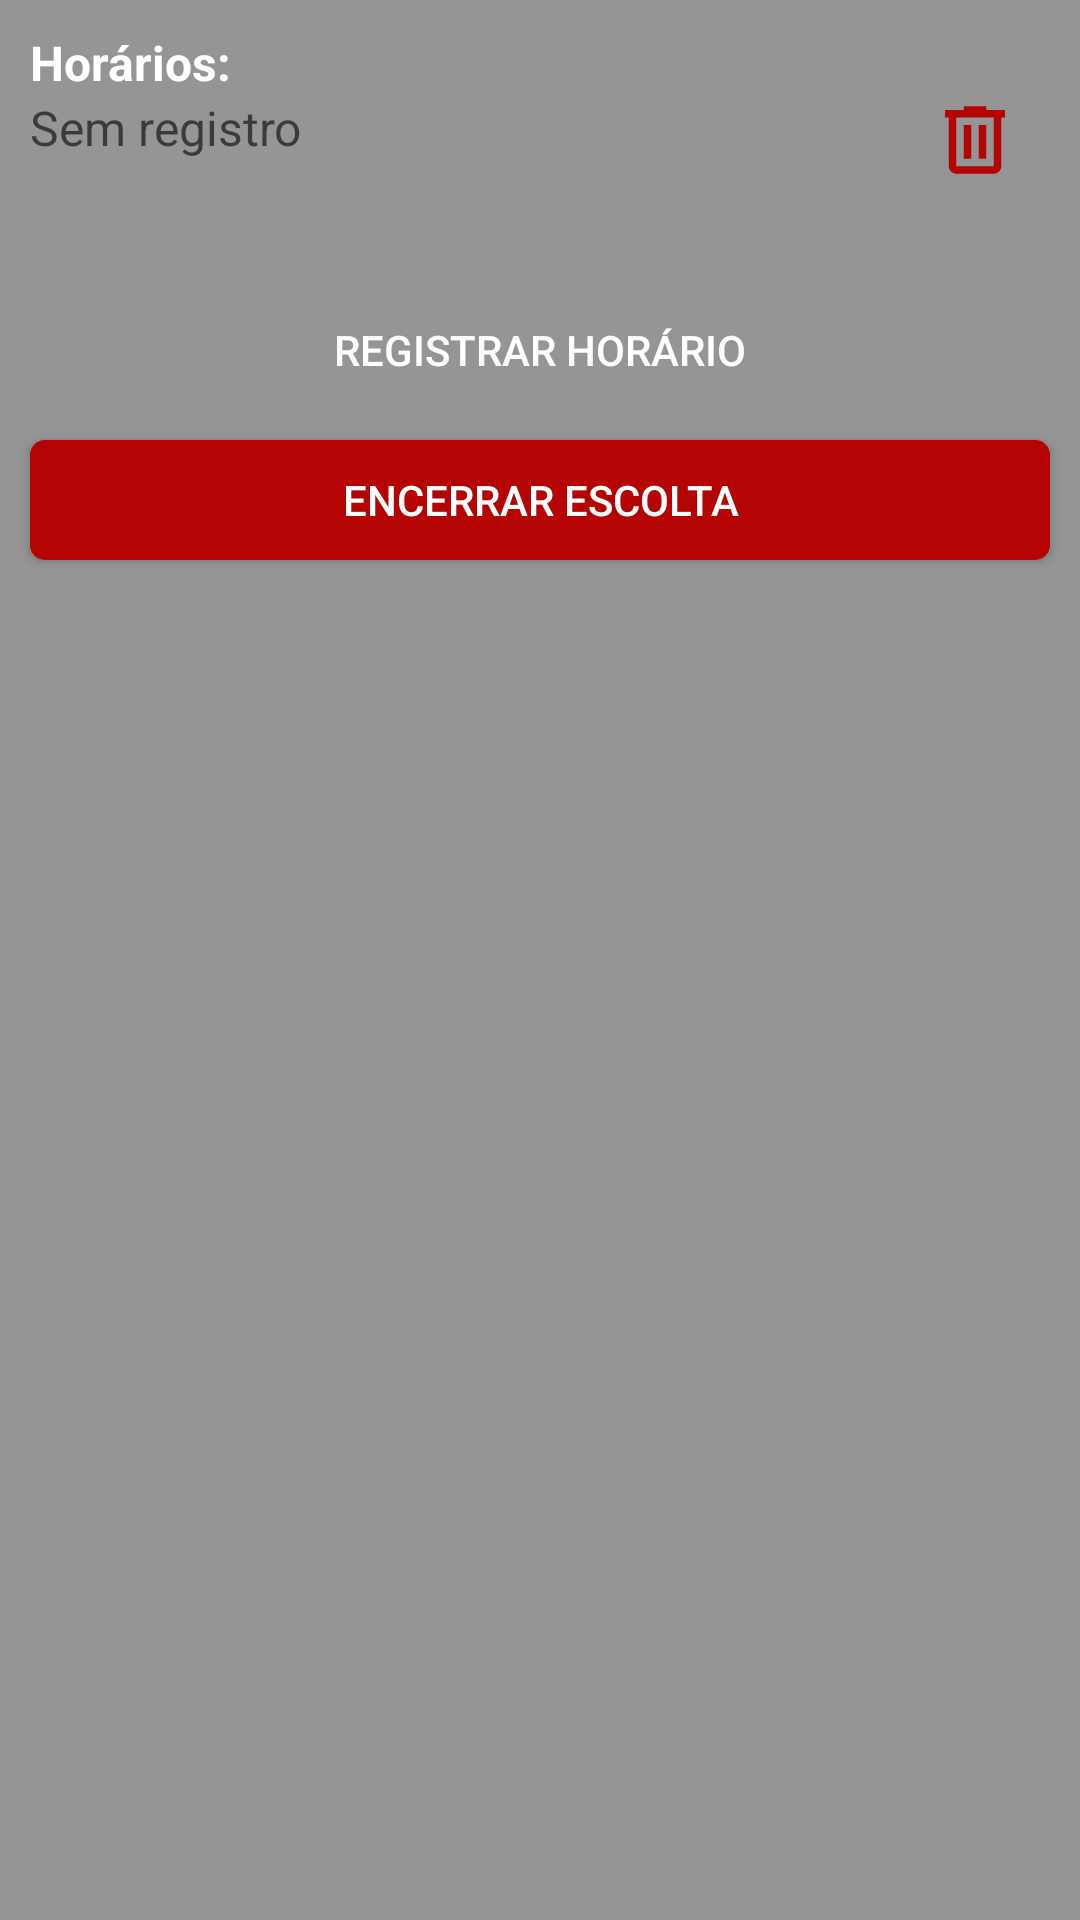

Named icons in this screenshot (1080x1920) and their centers, point (x, y):
delete: point (975, 140)
